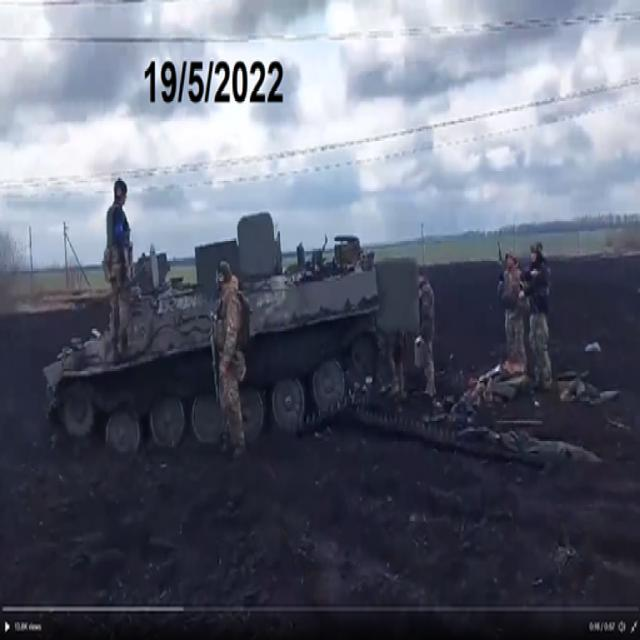APC-IFV: (31, 215, 396, 469)
